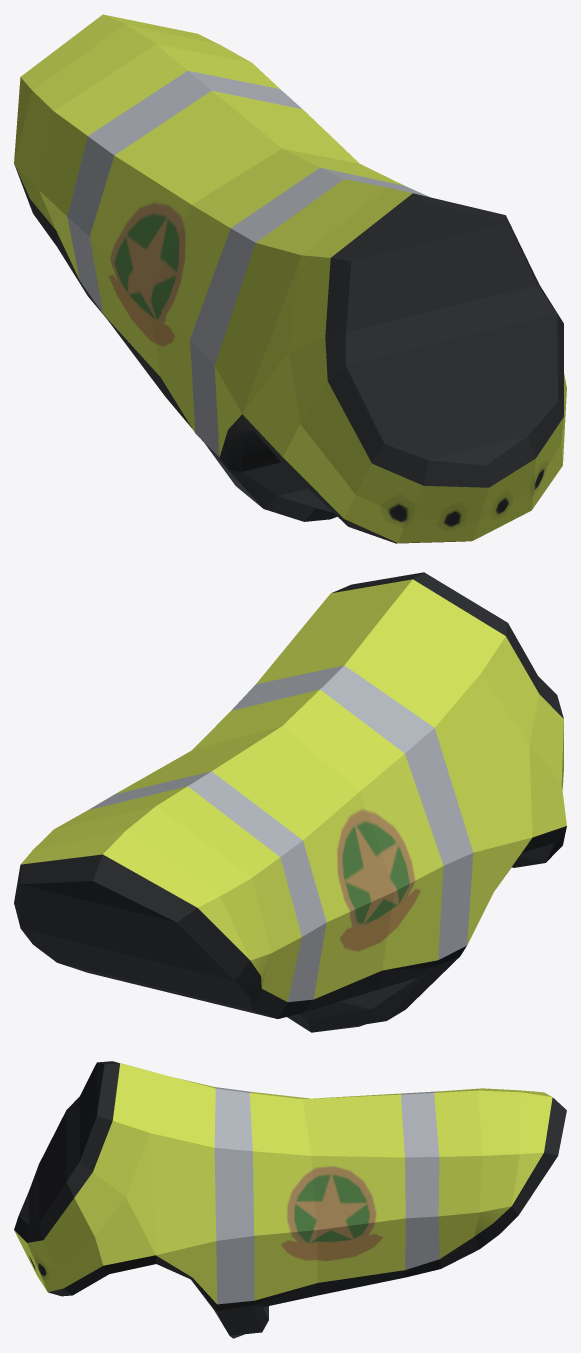
Rendered from SK_Chr_Attach_Vest_HighVis_Small_01.fbx.
The picture shows the model from 3 angles, top to bottom: view 1: azimuth 30°, elevation 25°; view 2: azimuth 150°, elevation 25°; view 3: azimuth 270°, elevation 25°; orthographic projection. The views are drawn at different scales.
Parts seen in each view (by area): view 1: SK_Chr_Attach_Vest_HighVis_Small_01; view 2: SK_Chr_Attach_Vest_HighVis_Small_01; view 3: SK_Chr_Attach_Vest_HighVis_Small_01.
Boxes of the visible parts, x1,y1,x2,y2 form: SK_Chr_Attach_Vest_HighVis_Small_01: (14, 14, 566, 543); SK_Chr_Attach_Vest_HighVis_Small_01: (14, 572, 566, 1032); SK_Chr_Attach_Vest_HighVis_Small_01: (14, 1061, 566, 1338).
Bounding box in the file's own units: 31.87 × 40.54 × 75.4.
